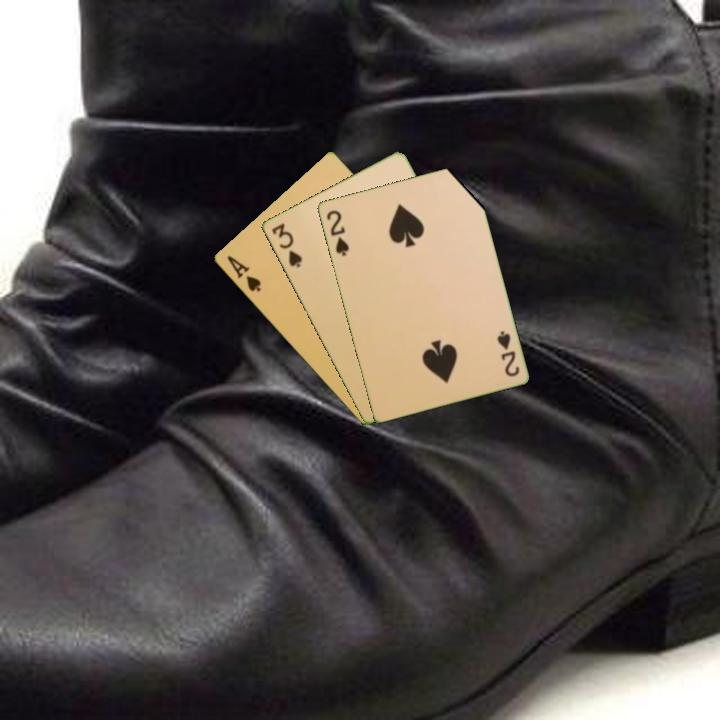2s: (323, 206, 352, 259), (493, 327, 522, 379)
3s: (268, 220, 305, 270)
As: (223, 252, 264, 295)
